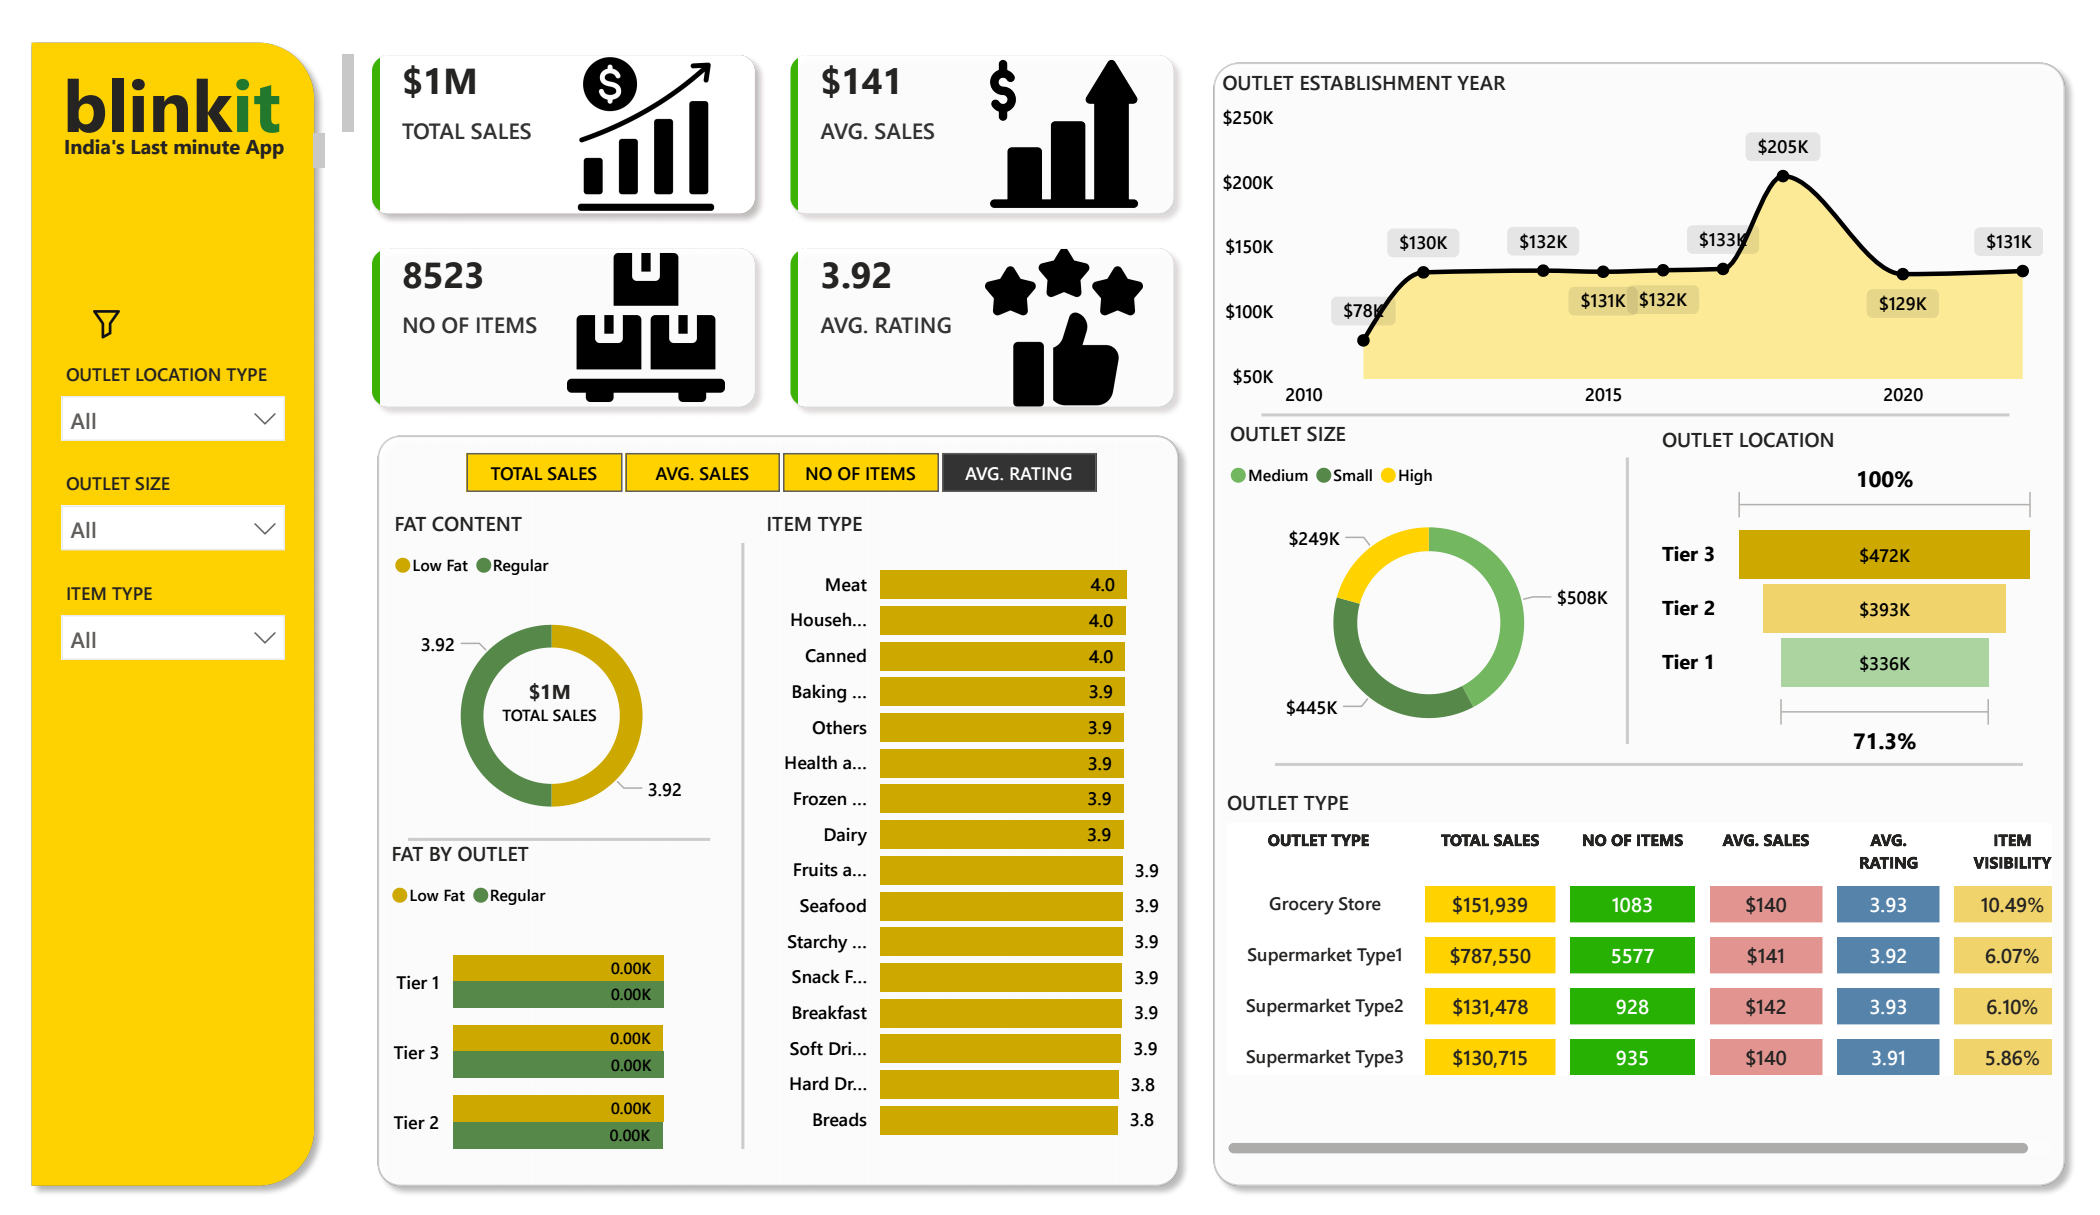

The page's visual inventory and layout, read from the dashboard file:
{"tool":"powerbi","page":{"name":"Blinkit Dashboard","canvas":[1400,800],"ordinal":0},"visuals":[{"type":"shape","box":[11.8,14.7,205.9,779.6],"z":0},{"type":"textbox","box":[36.8,26.5,204.5,75],"z":1000},{"type":"textbox","box":[17.7,79.4,204.5,38.2],"z":2000},{"type":"cardVisual","fields":{"Data":["All_Measures.Total_Sales","All_Measures.Avearge_Sales","All_Measures.No_of_Items","All_Measures.Average_Rating"]},"box":[230.6,14.7,569.7,269.4],"z":3000},{"type":"shape","box":[242.7,276.5,551.6,517.8],"z":4000},{"type":"donutChart","title":"FAT CONTENT","fields":{"Y":["All_Measures.AVG. RATING"],"Category":["BlinkIT Grocery Data.Item Fat Content"]},"box":[257.7,335.4,219.5,229],"z":5000},{"type":"slicer","fields":{"Values":["Matrics.Matrics"]},"box":[285,290,470,38],"z":6000},{"type":"cardVisual","title":"TOTAL SALES","fields":{"Data":["Sum(BlinkIT Grocery Data.Sales)"]},"box":[314.9,430.8,103.6,60],"z":7000},{"type":"clusteredBarChart","title":"FAT BY OUTLET","fields":{"Y":["All_Measures.AVG. RATING"],"Category":["BlinkIT Grocery Data.Outlet Location Type"],"Series":["BlinkIT Grocery Data.Item Fat Content"]},"box":[255.9,554.5,220.6,230.9],"z":8000},{"type":"shape","box":[272.1,536.9,201.5,35.3],"z":9000},{"type":"shape","box":[482.5,357.4,26.5,404.5],"z":10000},{"type":"barChart","title":"ITEM TYPE","fields":{"Y":["All_Measures.AVG. RATING"],"Category":["BlinkIT Grocery Data.Item Type"]},"box":[506,335.4,272.1,431],"z":11000},{"type":"shape","box":[800.2,27.9,585.4,766.3],"z":12000},{"type":"lineChart","title":"OUTLET ESTABLISHMENT YEAR","fields":{"Category":["BlinkIT Grocery Data.Outlet Establishment Year"],"Y":["All_Measures.TOTAL SALES"]},"box":[810.5,41.2,557.5,235.3],"z":13000},{"type":"shape","box":[841.4,254.5,498.6,35.3],"z":14000},{"type":"donutChart","title":"OUTLET SIZE","fields":{"Y":["Sum(BlinkIT Grocery Data.Sales)"],"Category":["BlinkIT Grocery Data.Outlet Size"]},"box":[814.9,275.1,275.1,225],"z":15000},{"type":"funnel","title":"OUTLET LOCATION","fields":{"Category":["BlinkIT Grocery Data.Outlet Location Type"],"Y":["Sum(BlinkIT Grocery Data.Sales)"]},"box":[1103.2,279.5,260.3,225],"z":16000},{"type":"shape","box":[1067.9,300.1,33.8,191.2],"z":17000},{"type":"shape","box":[850.2,486.9,498.6,35.3],"z":18000},{"type":"pivotTable","title":"OUTLET TYPE","fields":{"Rows":["BlinkIT Grocery Data.Outlet Type"],"Values":["Sum(BlinkIT Grocery Data.Sales)","All_Measures.NO OF ITEMS","All_Measures.AVG. SALES","All_Measures.AVG. RATING","Avg(BlinkIT Grocery Data.Item Visibility)"]},"box":[813.4,520.7,560.4,248.6],"z":19000},{"type":"slicer","fields":{"Values":["BlinkIT Grocery Data.Outlet Location Type"]},"box":[30.9,230.9,169.2,66.2],"z":20000},{"type":"slicer","fields":{"Values":["BlinkIT Grocery Data.Item Type"]},"box":[30.9,376.6,169.2,66.2],"z":21000},{"type":"slicer","fields":{"Values":["BlinkIT Grocery Data.Outlet Size"]},"box":[30.9,304.5,169.2,66.2],"z":22000},{"type":"image","box":[47.7,192.2,46.4,38.2],"z":24000}]}

Visuals, with their boxes in screenshot pixels (x1, y1, x2, y2), scaled from the page's 1400x800 canvas onto the 2100x1215 screenshot:
shape: {"x1": 18, "y1": 22, "x2": 327, "y2": 1206}
textbox: {"x1": 55, "y1": 40, "x2": 362, "y2": 154}
textbox: {"x1": 27, "y1": 121, "x2": 333, "y2": 179}
cardVisual - All_Measures.Total_Sales x All_Measures.Avearge_Sales: {"x1": 346, "y1": 22, "x2": 1200, "y2": 431}
shape: {"x1": 364, "y1": 420, "x2": 1191, "y2": 1206}
"FAT CONTENT" donutChart: {"x1": 387, "y1": 509, "x2": 716, "y2": 857}
slicer - Matrics.Matrics: {"x1": 428, "y1": 440, "x2": 1132, "y2": 498}
"TOTAL SALES" cardVisual: {"x1": 472, "y1": 654, "x2": 628, "y2": 745}
"FAT BY OUTLET" clusteredBarChart: {"x1": 384, "y1": 842, "x2": 715, "y2": 1193}
shape: {"x1": 408, "y1": 815, "x2": 710, "y2": 869}
shape: {"x1": 724, "y1": 543, "x2": 764, "y2": 1157}
"ITEM TYPE" barChart: {"x1": 759, "y1": 509, "x2": 1167, "y2": 1164}
shape: {"x1": 1200, "y1": 42, "x2": 2078, "y2": 1206}
"OUTLET ESTABLISHMENT YEAR" lineChart: {"x1": 1216, "y1": 63, "x2": 2052, "y2": 420}
shape: {"x1": 1262, "y1": 387, "x2": 2010, "y2": 440}
"OUTLET SIZE" donutChart: {"x1": 1222, "y1": 418, "x2": 1635, "y2": 760}
"OUTLET LOCATION" funnel: {"x1": 1655, "y1": 424, "x2": 2045, "y2": 766}
shape: {"x1": 1602, "y1": 456, "x2": 1653, "y2": 746}
shape: {"x1": 1275, "y1": 739, "x2": 2023, "y2": 793}
"OUTLET TYPE" pivotTable: {"x1": 1220, "y1": 791, "x2": 2061, "y2": 1168}
slicer - BlinkIT Grocery Data.Outlet Location Type: {"x1": 46, "y1": 351, "x2": 300, "y2": 451}
slicer - BlinkIT Grocery Data.Item Type: {"x1": 46, "y1": 572, "x2": 300, "y2": 673}
slicer - BlinkIT Grocery Data.Outlet Size: {"x1": 46, "y1": 462, "x2": 300, "y2": 563}
image: {"x1": 72, "y1": 292, "x2": 141, "y2": 350}
